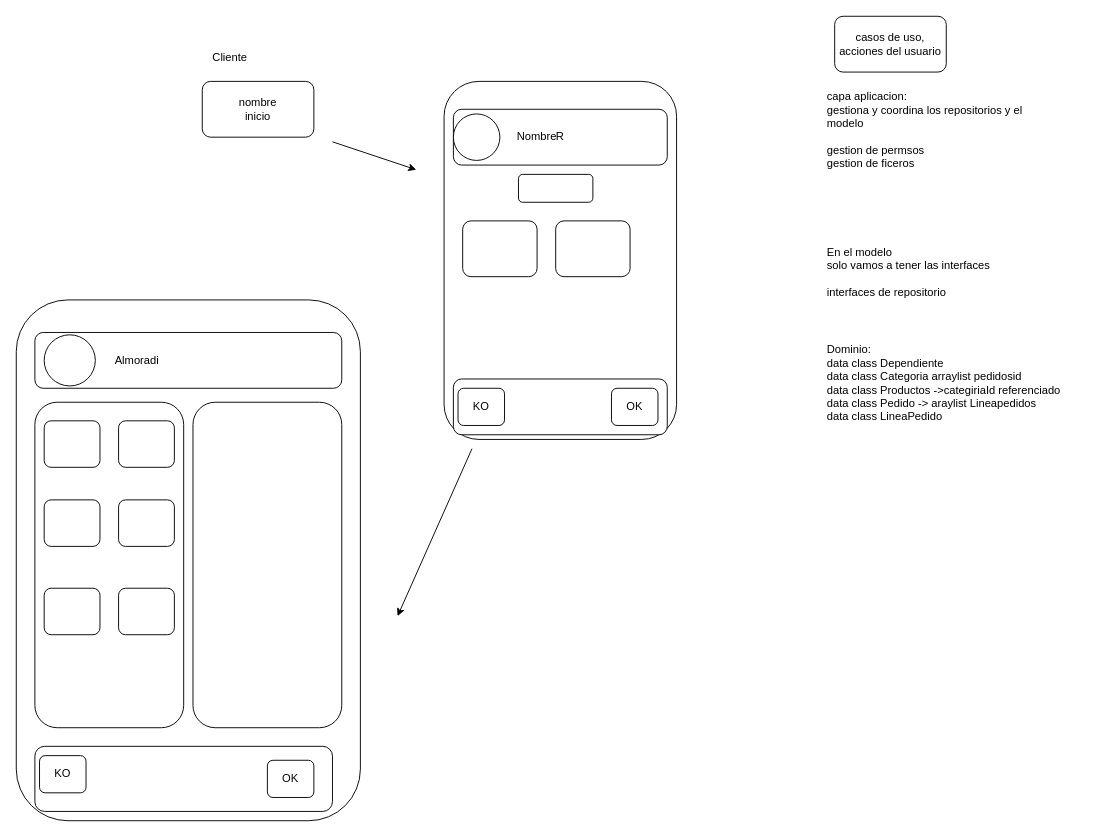
The diagram is 1111 pixels wide and 837 high, and some of its shapes have lost their labels. The shapes that lost their labels are listed below. From the top down, each one's centre as x and y in pixels, then its label:
At point (476, 136): "Logo".
At point (555, 187): "categoria".
At point (267, 564): "detalles del producto seleccionado".
